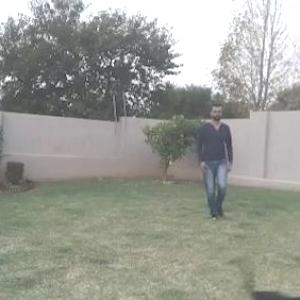follow: (197, 104, 234, 219)
